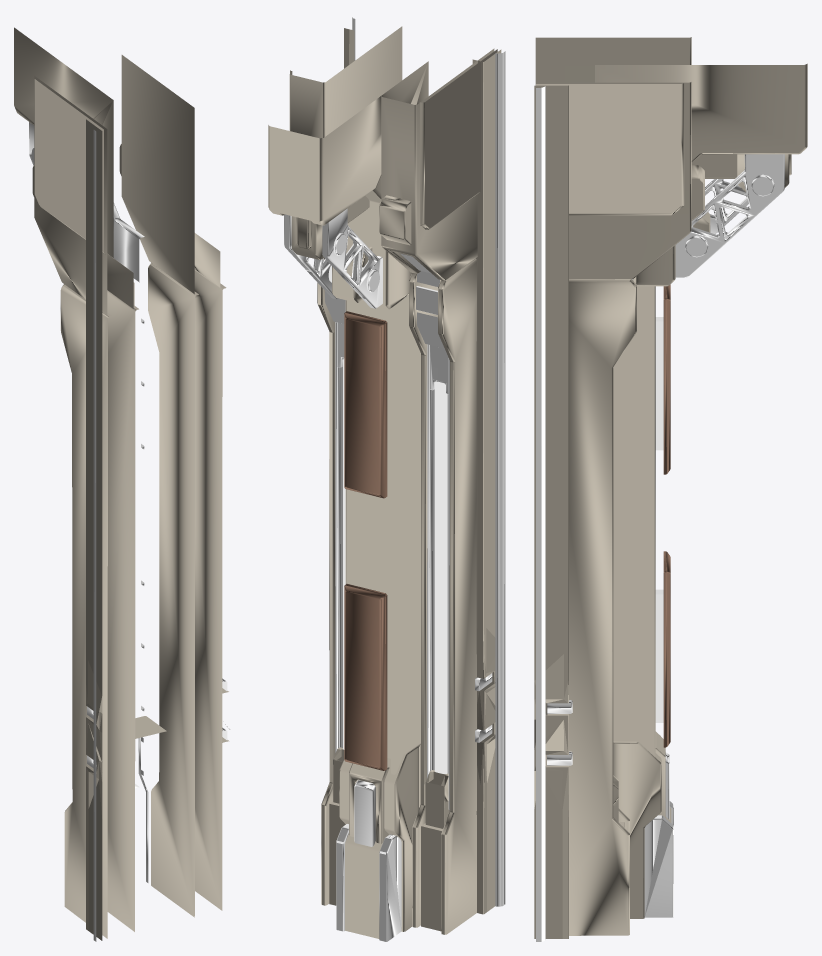
Rendered from roomsm_addon_pillar_02x02x12_a.glb.
3 views of the same model, side by side, from view 1: azimuth 30°, elevation 25°; view 2: azimuth 150°, elevation 25°; view 3: azimuth 270°, elevation 25° (orthographic). The views are drawn at different scales.
Size of the model in its own units: 2.23 by 12.01 by 3.48.
